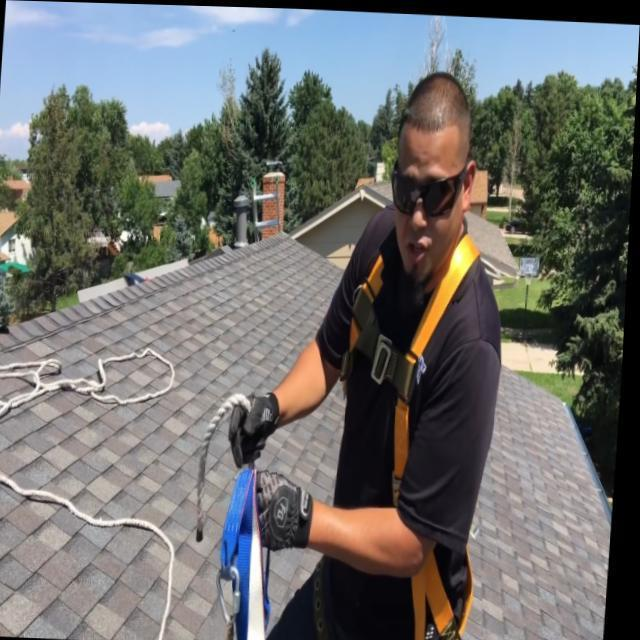Harness: (346, 239, 480, 506)
